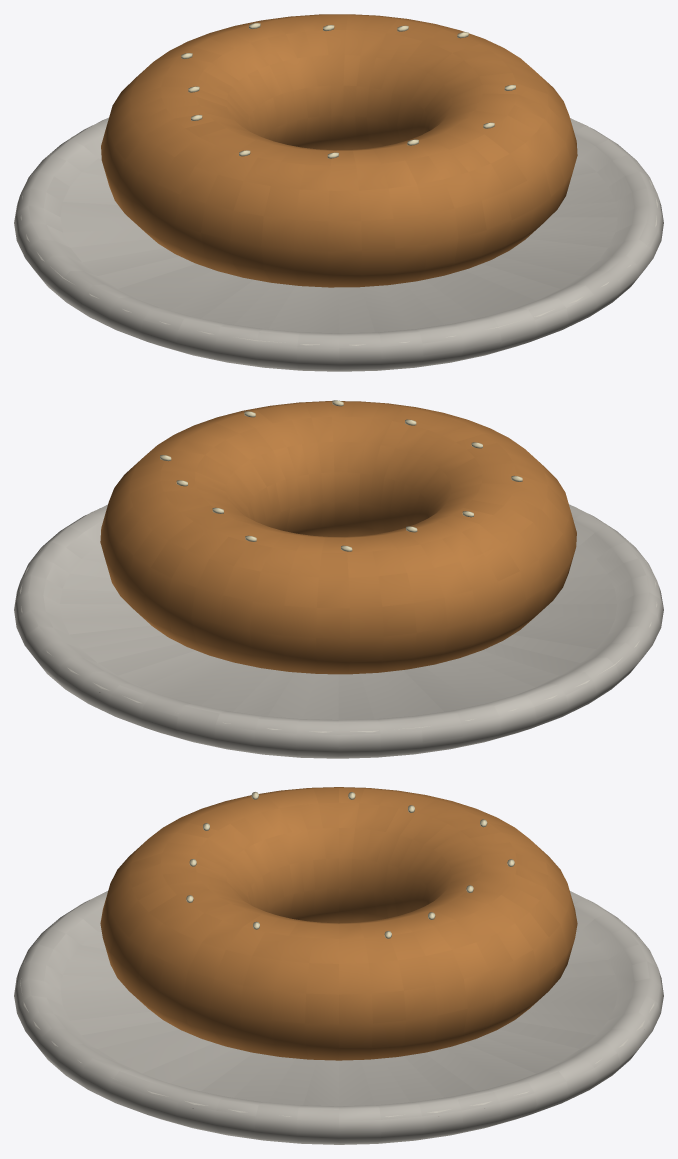
File: bagel.glb
3 views of the same model, one above another, from view 1: azimuth 30°, elevation 25°; view 2: azimuth 150°, elevation 25°; view 3: azimuth 270°, elevation 25° (orthographic).
Parts seen in each view (by area): view 1: Bagel_plump_bread_ring_clear_center, Shared_milky_white_round_glass_plate; view 2: Bagel_plump_bread_ring_clear_center, Shared_milky_white_round_glass_plate; view 3: Bagel_plump_bread_ring_clear_center, Shared_milky_white_round_glass_plate.
Part boxes in pixels (x1,y1,x2,y2): Bagel_plump_bread_ring_clear_center: (101, 14, 577, 287); Shared_milky_white_round_glass_plate: (14, 117, 663, 371); Bagel_plump_bread_ring_clear_center: (100, 401, 576, 674); Shared_milky_white_round_glass_plate: (14, 504, 663, 758); Bagel_plump_bread_ring_clear_center: (100, 787, 577, 1060); Shared_milky_white_round_glass_plate: (14, 891, 663, 1144).
Bounding box in the file's own units: 0.94 × 0.269 × 0.94.
